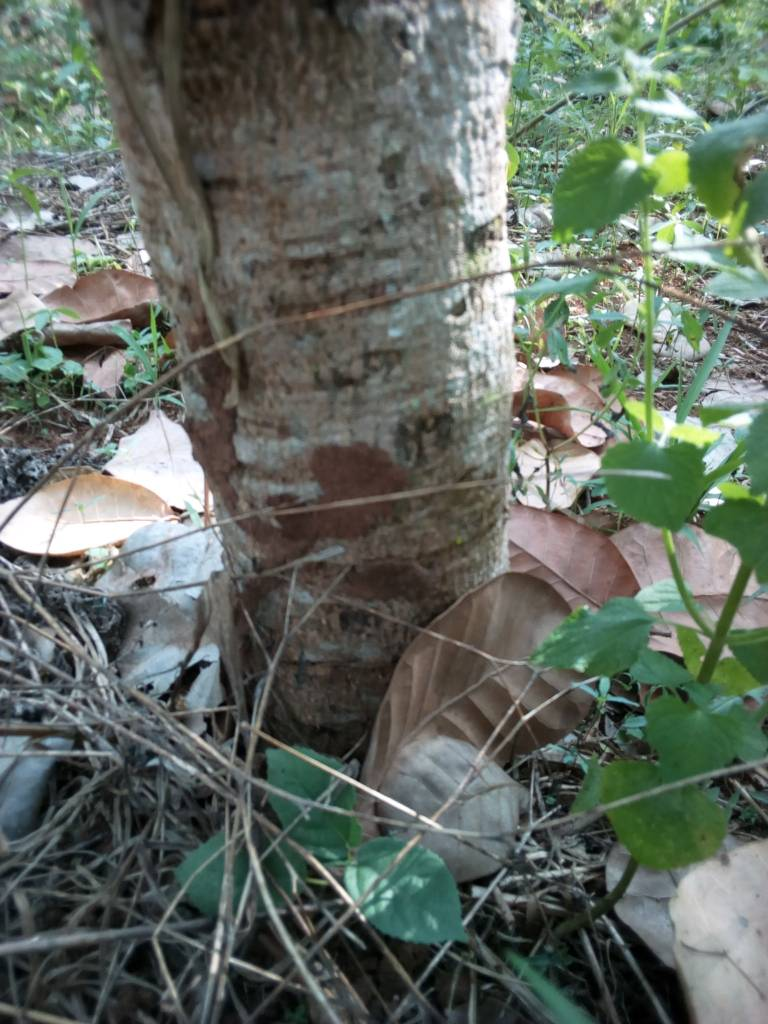Termites: (185, 383, 419, 616)
